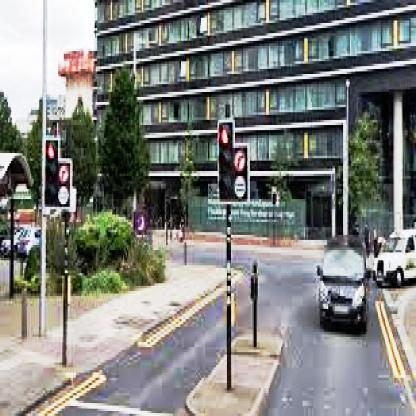No right turn: (235, 143, 248, 176), (56, 165, 73, 188)
